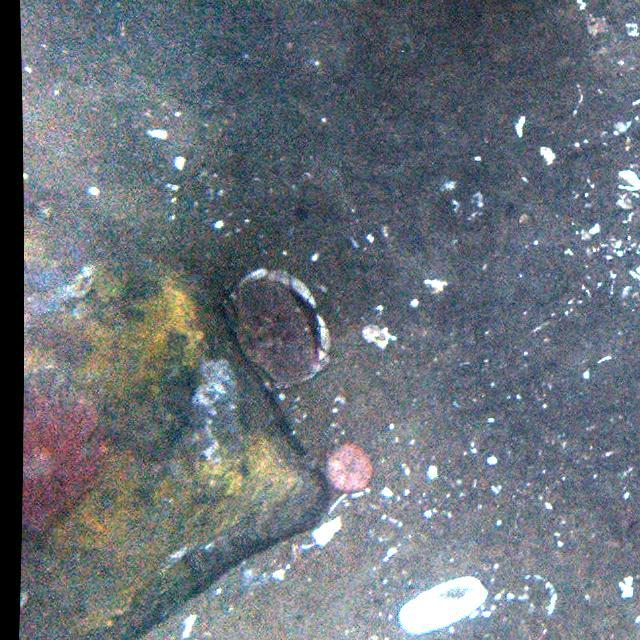crab: (220, 266, 334, 386)
